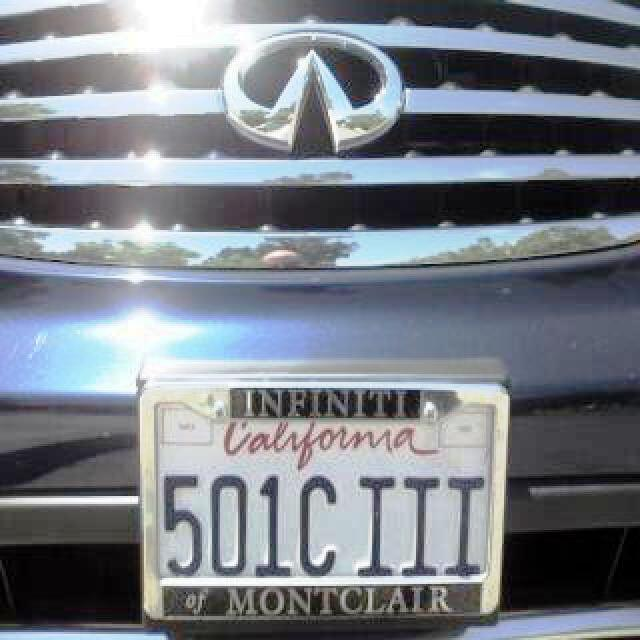license_plate: (156, 394, 501, 618)
